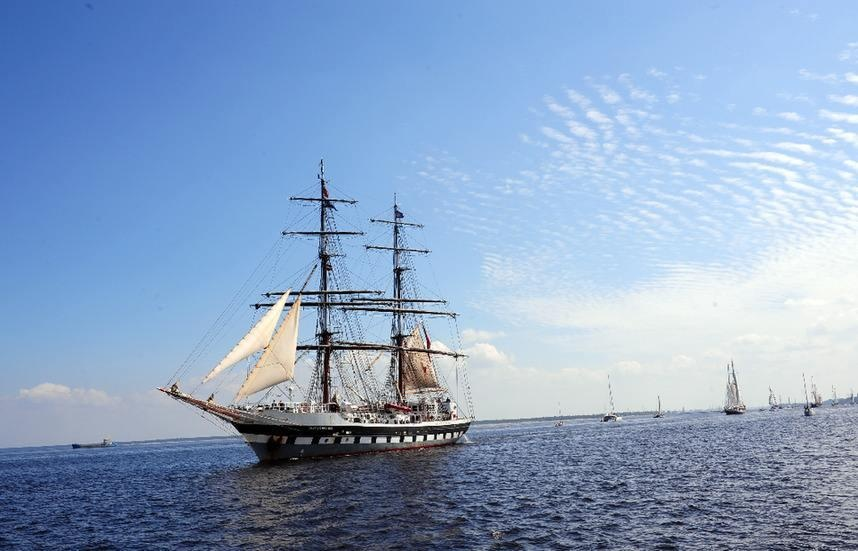fanchuan: (154, 155, 479, 466)
